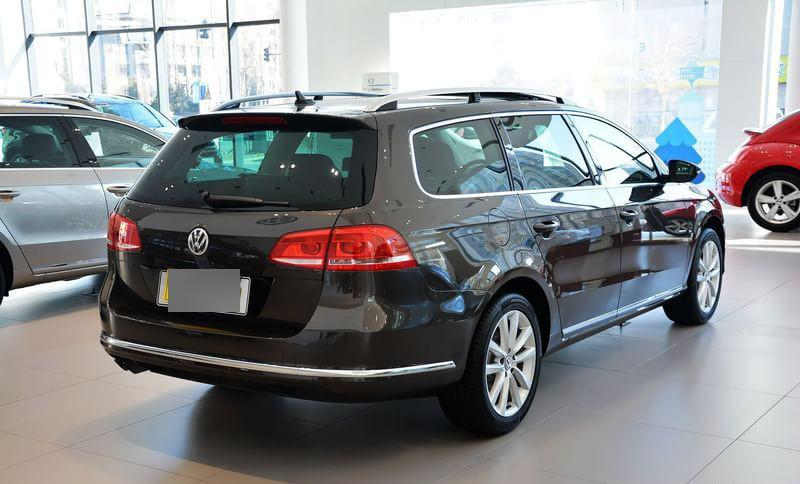Wagon: (96, 84, 727, 436)
